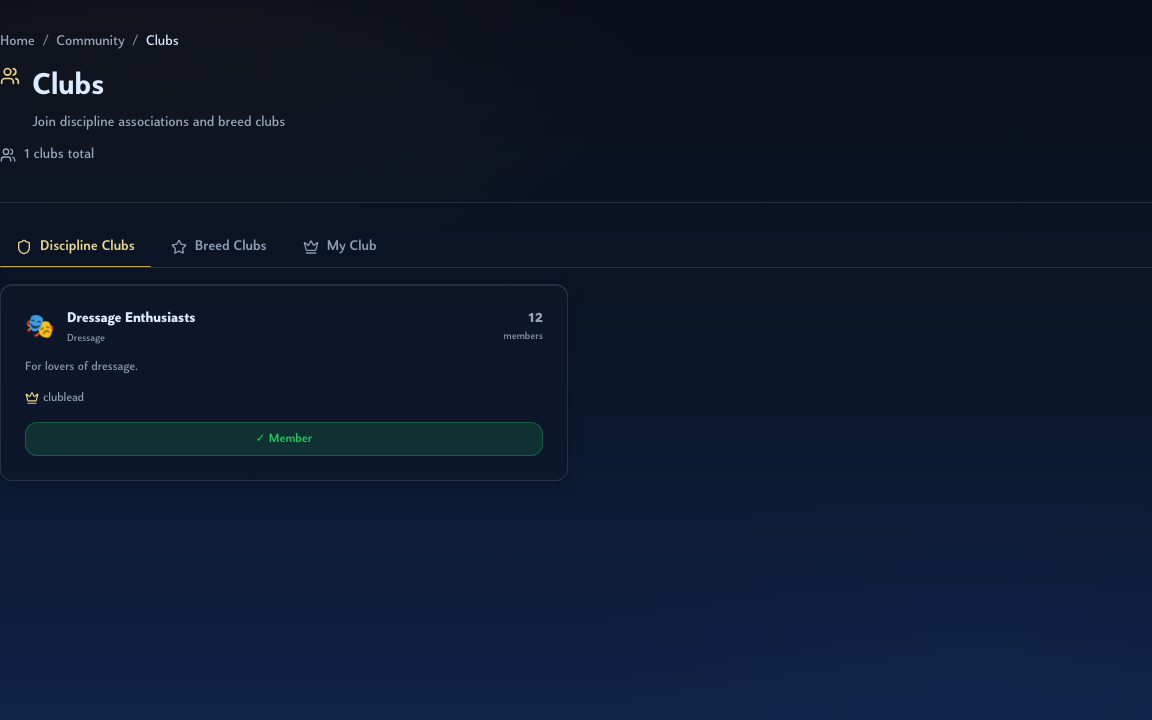
Test: ClubElectionsSection fetch states (Equoria-1rsb7) › a successful empty elections list is the honest "No active elections"
Click the tab with test id "tab-my-club".
click(340, 247)  # box [287,227,393,267]
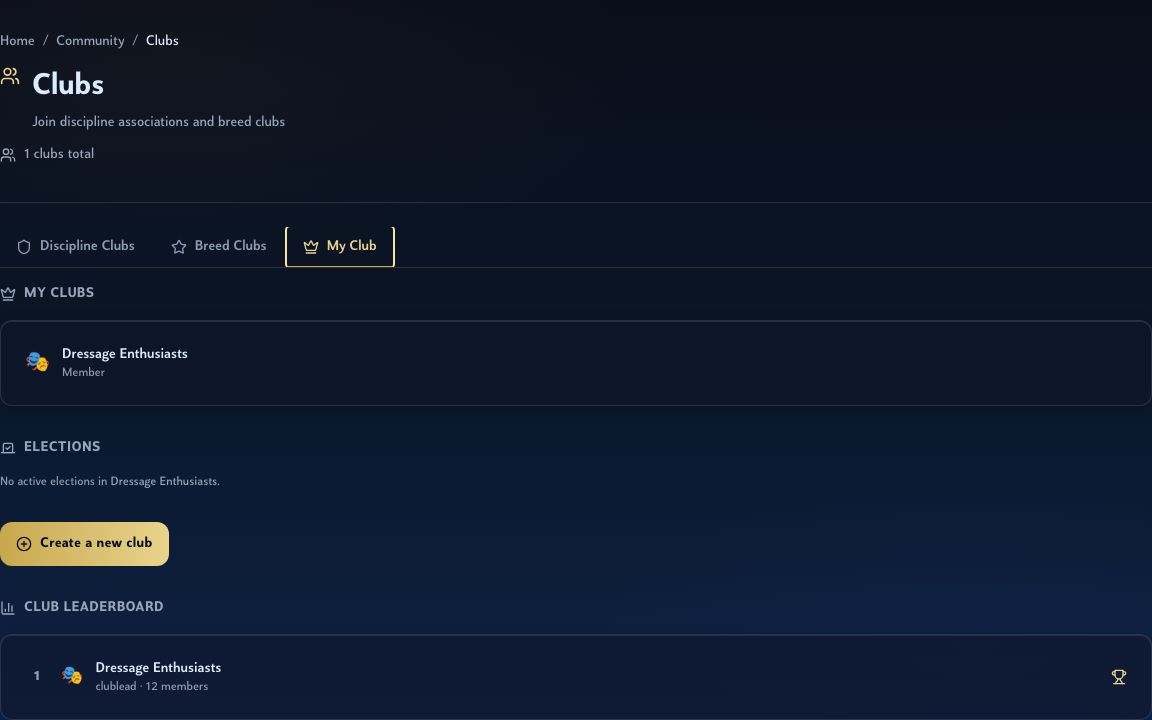
Result: the text "No active elections in Dressage Enthusiasts." is shown at [0,476,220,488]
